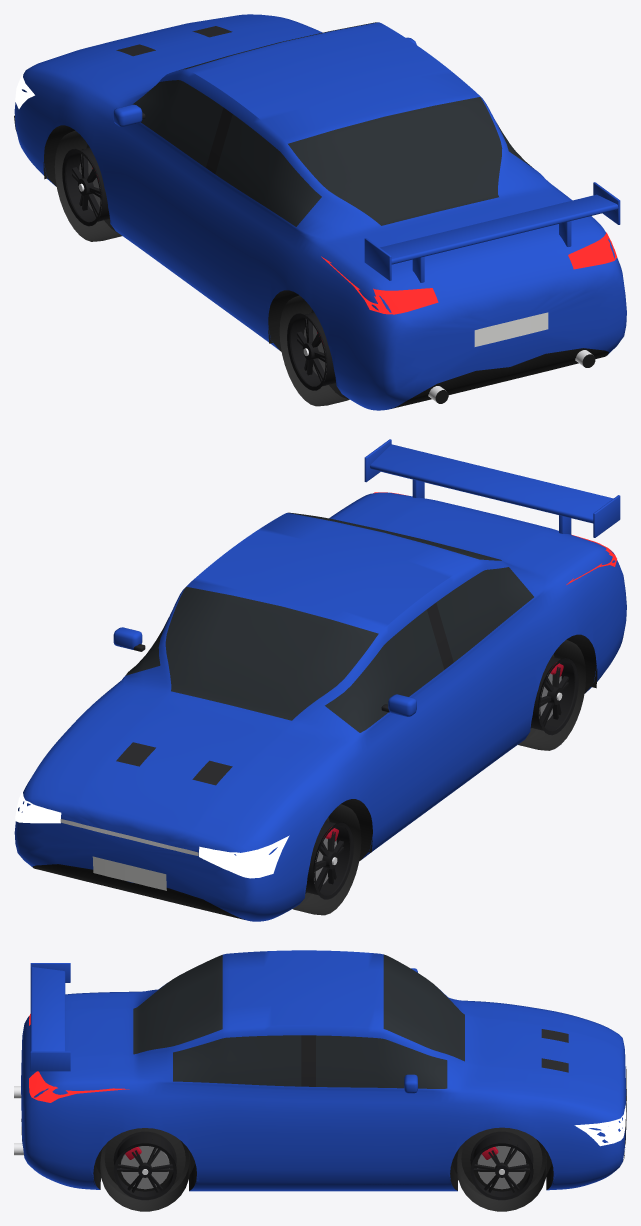
Rendered from lancer_evo.glb.
3 views of the same model, one above another, from view 1: azimuth 30°, elevation 25°; view 2: azimuth 150°, elevation 25°; view 3: azimuth 270°, elevation 25° (orthographic). The views are drawn at different scales.
Parts seen in each view (by area): view 1: Body, Wheel_RL, Wheel_FL; view 2: Body, Wheel_FL, Wheel_RL; view 3: Body, Wheel_FR, Wheel_RR.
Part boxes in pixels (left/top/right/bottom): Body: left=14, top=14, right=626, bottom=410; Wheel_RL: left=279, top=295, right=349, bottom=406; Wheel_FL: left=54, top=130, right=121, bottom=241; Body: left=14, top=439, right=626, bottom=921; Wheel_FL: left=293, top=804, right=361, bottom=915; Wheel_RL: left=518, top=640, right=585, bottom=750; Body: left=14, top=950, right=626, bottom=1191; Wheel_FR: left=457, top=1127, right=546, bottom=1211; Wheel_RR: left=100, top=1128, right=190, bottom=1211.
Size of the model in its own units: 2.03 by 1.47 by 4.55.
